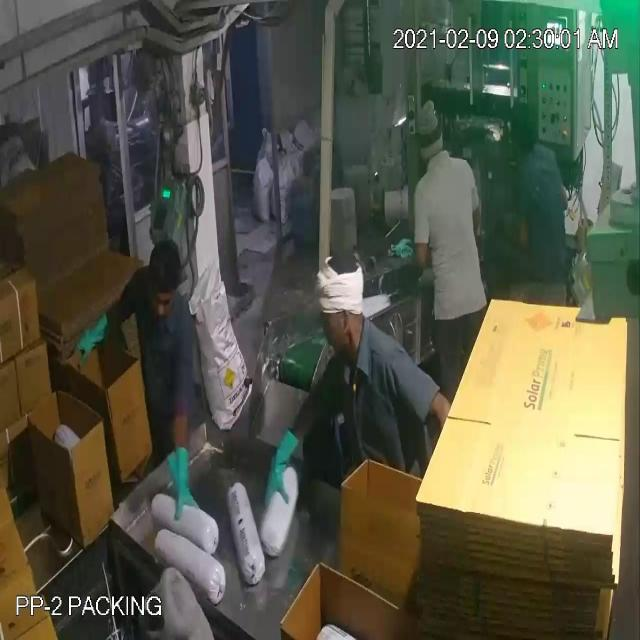Gloves: (52, 50, 276, 479)
